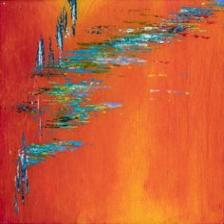orange: (0, 0, 224, 224), (23, 15, 224, 224), (0, 1, 67, 224)
